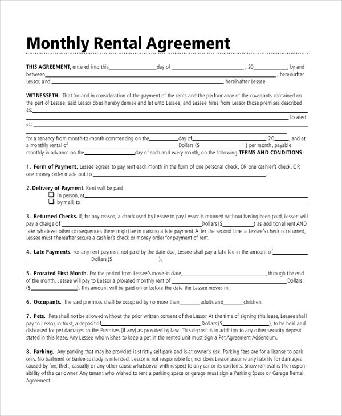checkbox: (48, 198, 55, 204), (48, 191, 54, 197)
textline: (33, 104, 308, 114), (25, 127, 300, 136), (84, 189, 309, 199), (33, 120, 308, 128), (25, 113, 290, 121), (44, 70, 276, 78), (81, 199, 311, 206), (94, 170, 267, 178), (52, 78, 223, 85), (61, 219, 202, 227), (68, 141, 178, 149), (101, 320, 201, 327), (172, 278, 286, 284), (171, 62, 244, 70), (193, 134, 266, 142), (182, 270, 265, 277), (25, 255, 91, 263), (108, 62, 156, 71), (221, 319, 269, 327), (199, 141, 245, 149), (84, 149, 136, 156), (31, 284, 76, 291), (113, 255, 157, 262), (254, 62, 287, 71), (274, 248, 309, 255), (222, 220, 253, 227), (148, 135, 178, 142), (274, 135, 290, 142), (181, 299, 199, 305), (224, 299, 244, 304)
